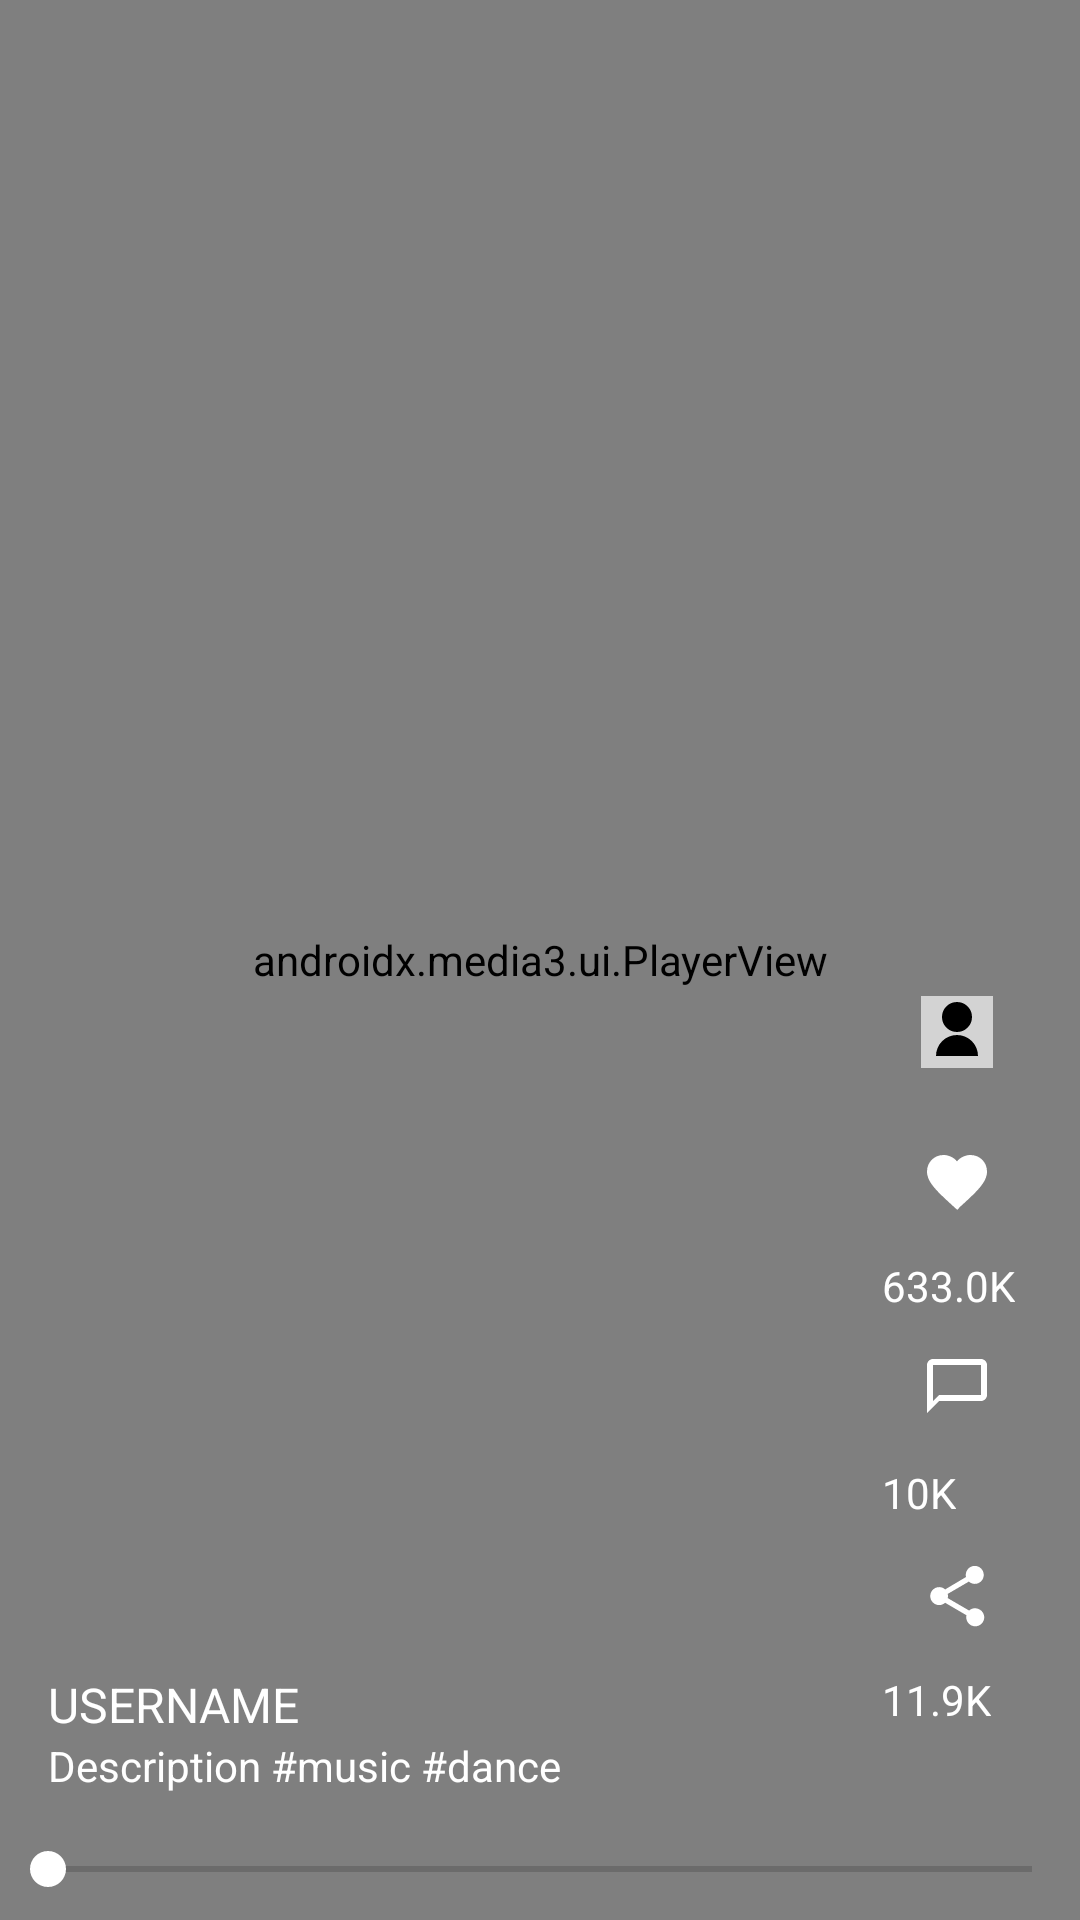

Icons on this 1080 x 1920 Android screen, each with its box as (x1, y1, x2, y2):
Comment: (927, 1359, 987, 1413)
Like: (927, 1155, 987, 1210)
Profile: (921, 996, 993, 1068)
Share: (930, 1566, 985, 1627)
